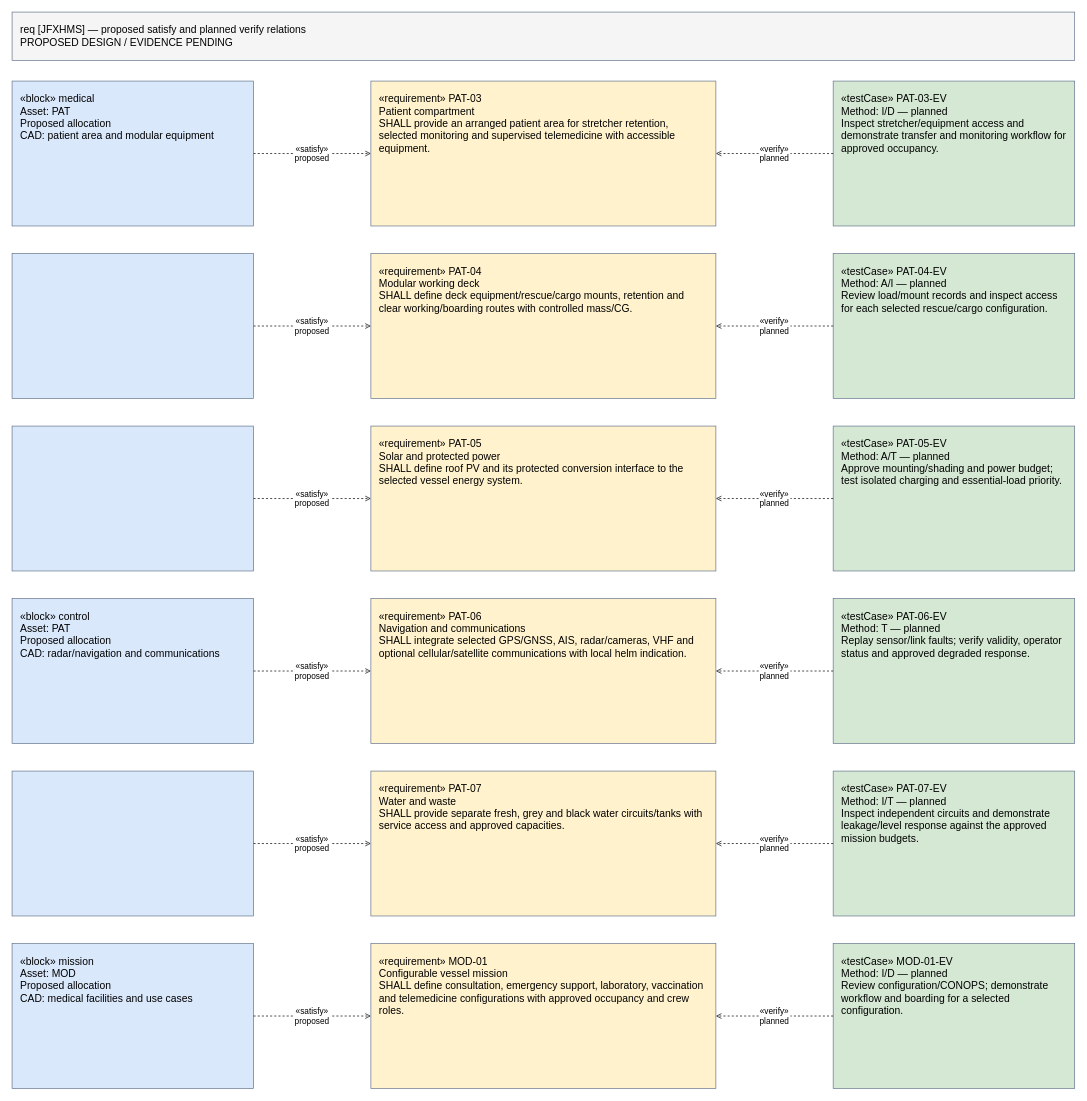
Some shapes in this 1087 by 1101 pixel diagram are drawn without their labels. Each missing label, with the centre of its shape:
"«block» energy Asset: PAT Proposed allocation CAD: solar panels" belongs at point 132,498.
"«block» medical Asset: PAT Proposed allocation CAD: water/waste" belongs at point 132,843.
"«block» mission Asset: PAT Proposed allocation CAD: modular deck" belongs at point 132,325.
